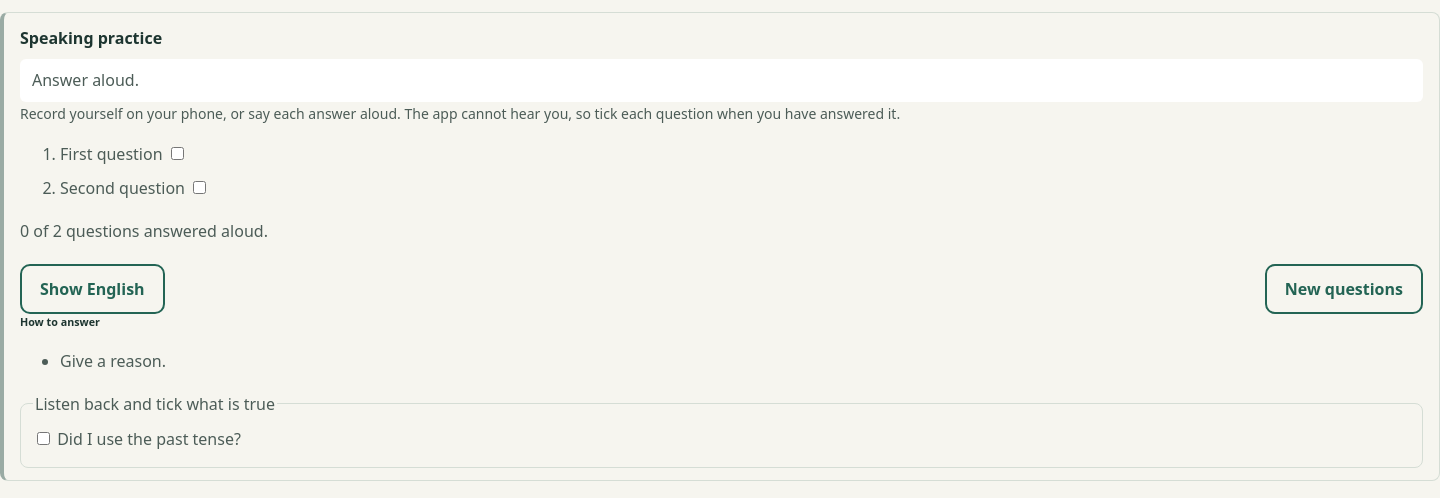
Scenario: speaking panel › counts the questions answered aloud and toggles the English meaning
Expected: the text "What is your name?" is not shown
Click the button "Show English". click: (92, 289)
box: [20,264,165,314]
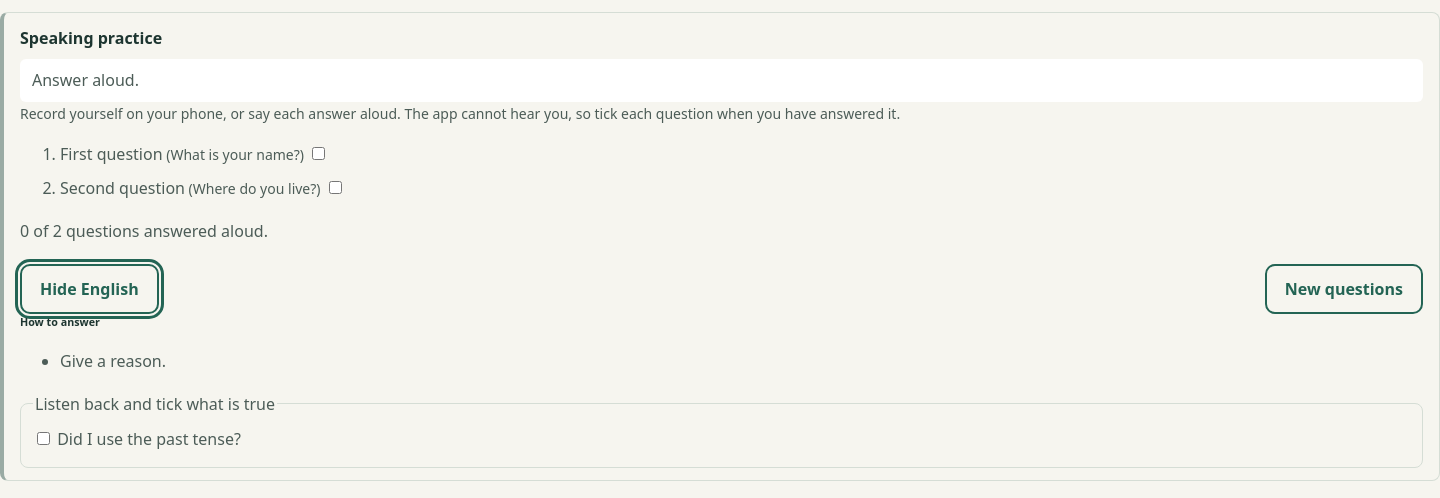
Expected: the text "(What is your name?)" is shown, [162,145,304,164]
Click the checkbox named "Answered aloud: What is your name?". click: (319, 153)
box: [312,147,325,160]
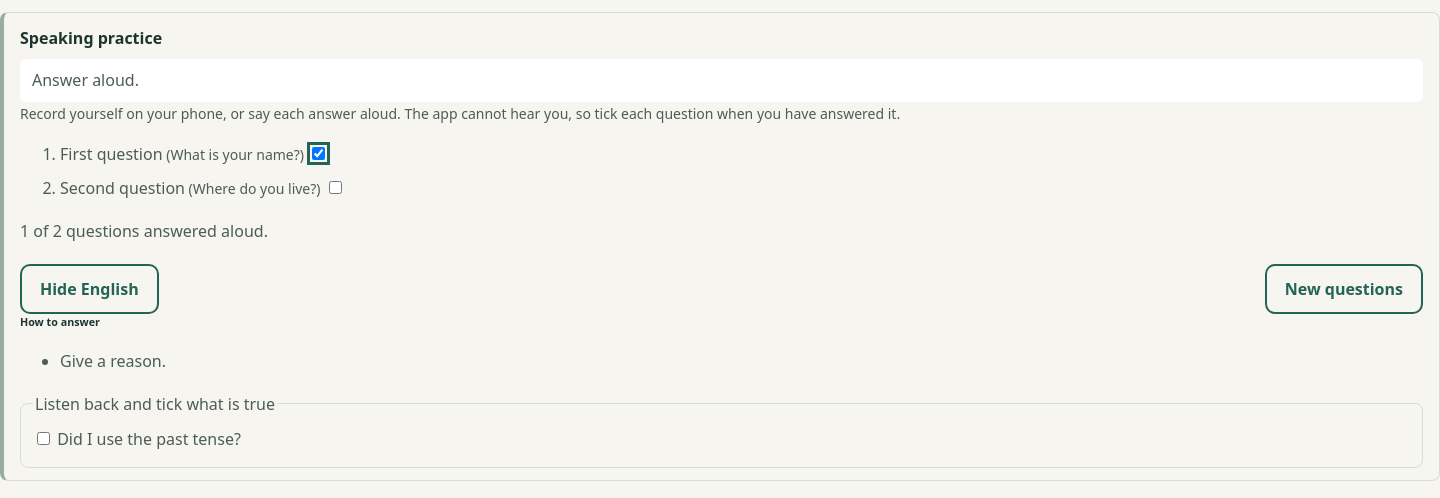
Expected: the message reads "1 of 2 questions answered aloud.", [20,220,268,242]
